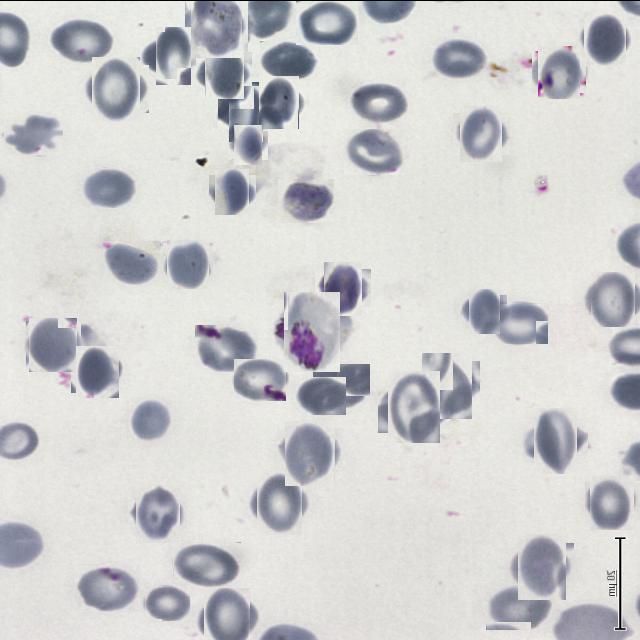red blood cell: (384, 375, 446, 437), (418, 356, 476, 415), (281, 424, 339, 482), (512, 538, 570, 595), (88, 60, 144, 117), (74, 563, 140, 611), (187, 0, 245, 54), (173, 541, 241, 587), (486, 582, 552, 629), (528, 412, 583, 468), (194, 323, 258, 371), (252, 476, 306, 530), (49, 18, 115, 62), (344, 128, 406, 174), (27, 318, 80, 370), (199, 590, 254, 640), (348, 80, 410, 124), (296, 0, 358, 44), (132, 486, 184, 538), (312, 362, 370, 408), (4, 111, 63, 156), (103, 240, 160, 285), (456, 108, 506, 158), (588, 274, 638, 324), (278, 178, 334, 222), (430, 37, 488, 78), (588, 478, 637, 526), (260, 40, 318, 80), (582, 14, 630, 62), (74, 346, 122, 394), (200, 46, 248, 94), (535, 47, 583, 95), (233, 357, 286, 400), (81, 166, 136, 207), (494, 302, 548, 343), (255, 78, 302, 125), (320, 264, 367, 310), (223, 90, 270, 136), (150, 32, 197, 78), (165, 240, 211, 286), (128, 397, 173, 441), (298, 376, 346, 414), (212, 170, 252, 212), (144, 584, 190, 620), (465, 292, 504, 330), (231, 128, 265, 162)
trophozoite: (278, 296, 346, 364)
